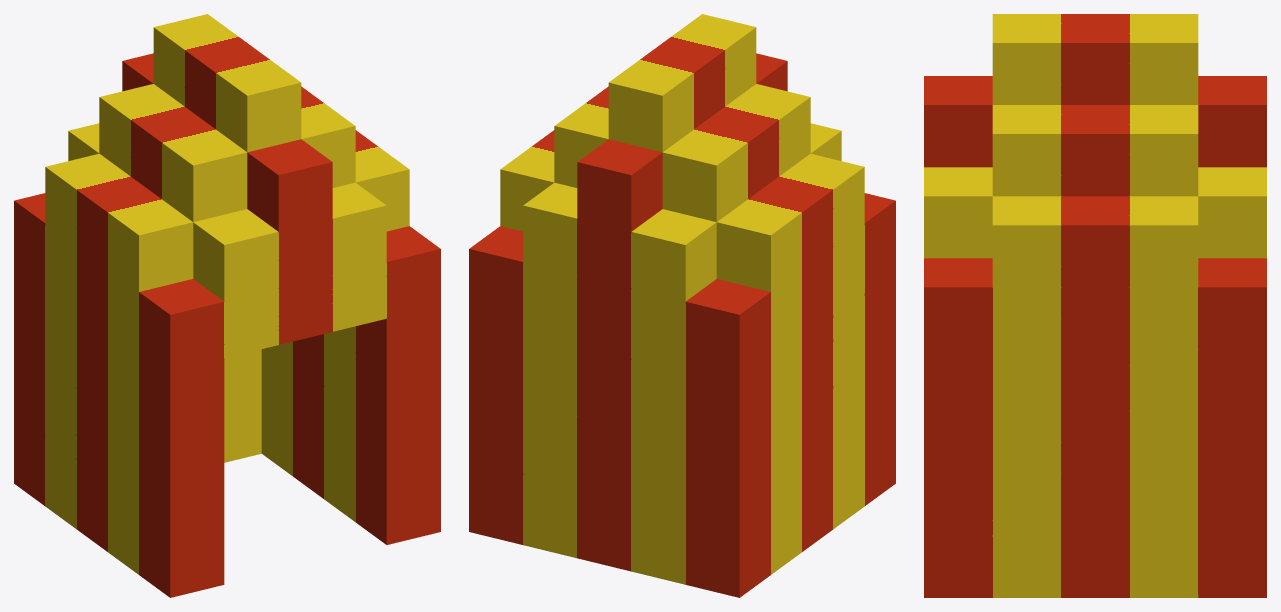
Rendered from FestivalTent.fbx.
The picture shows the model from 3 angles, left to right: view 1: azimuth 30°, elevation 25°; view 2: azimuth 150°, elevation 25°; view 3: azimuth 270°, elevation 25°; orthographic projection. The views are drawn at different scales.
Parts seen in each view (by area): view 1: Matrix; view 2: Matrix; view 3: Matrix.
Part boxes in pixels (left/top/right/bottom): Matrix: left=14, top=14, right=440, bottom=597; Matrix: left=469, top=14, right=895, bottom=597; Matrix: left=924, top=14, right=1266, bottom=597.
Size of the model in its own units: 5 by 8 by 5.
Materials: 1 (1 with a texture image).
